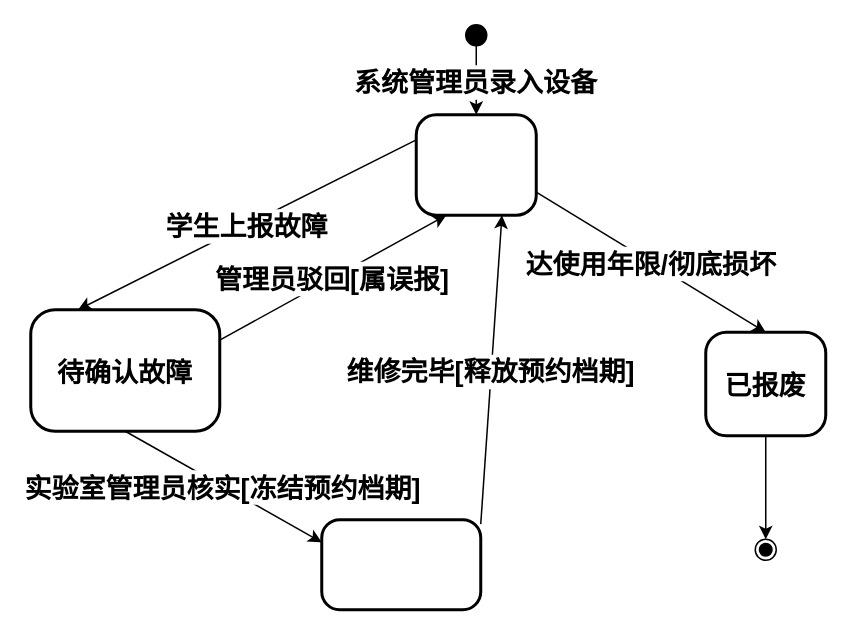
Some shapes in this 851 by 635 pixel diagram are drawn without their labels. The shapes that lost their labels are listed below. From the top down, each one's centre as x and y in pixels, then its label:
the point at 475,164: 正常运行
the point at 401,564: 维修中
